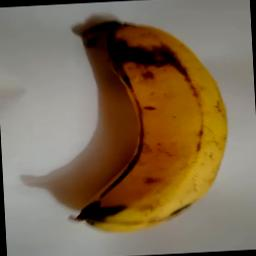Banana Unripe: (66, 10, 232, 232)
